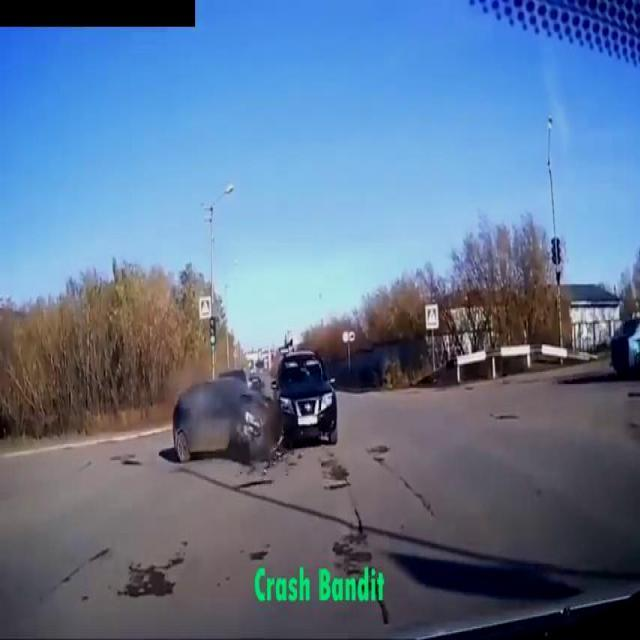Moderate: (172, 343, 342, 470)
